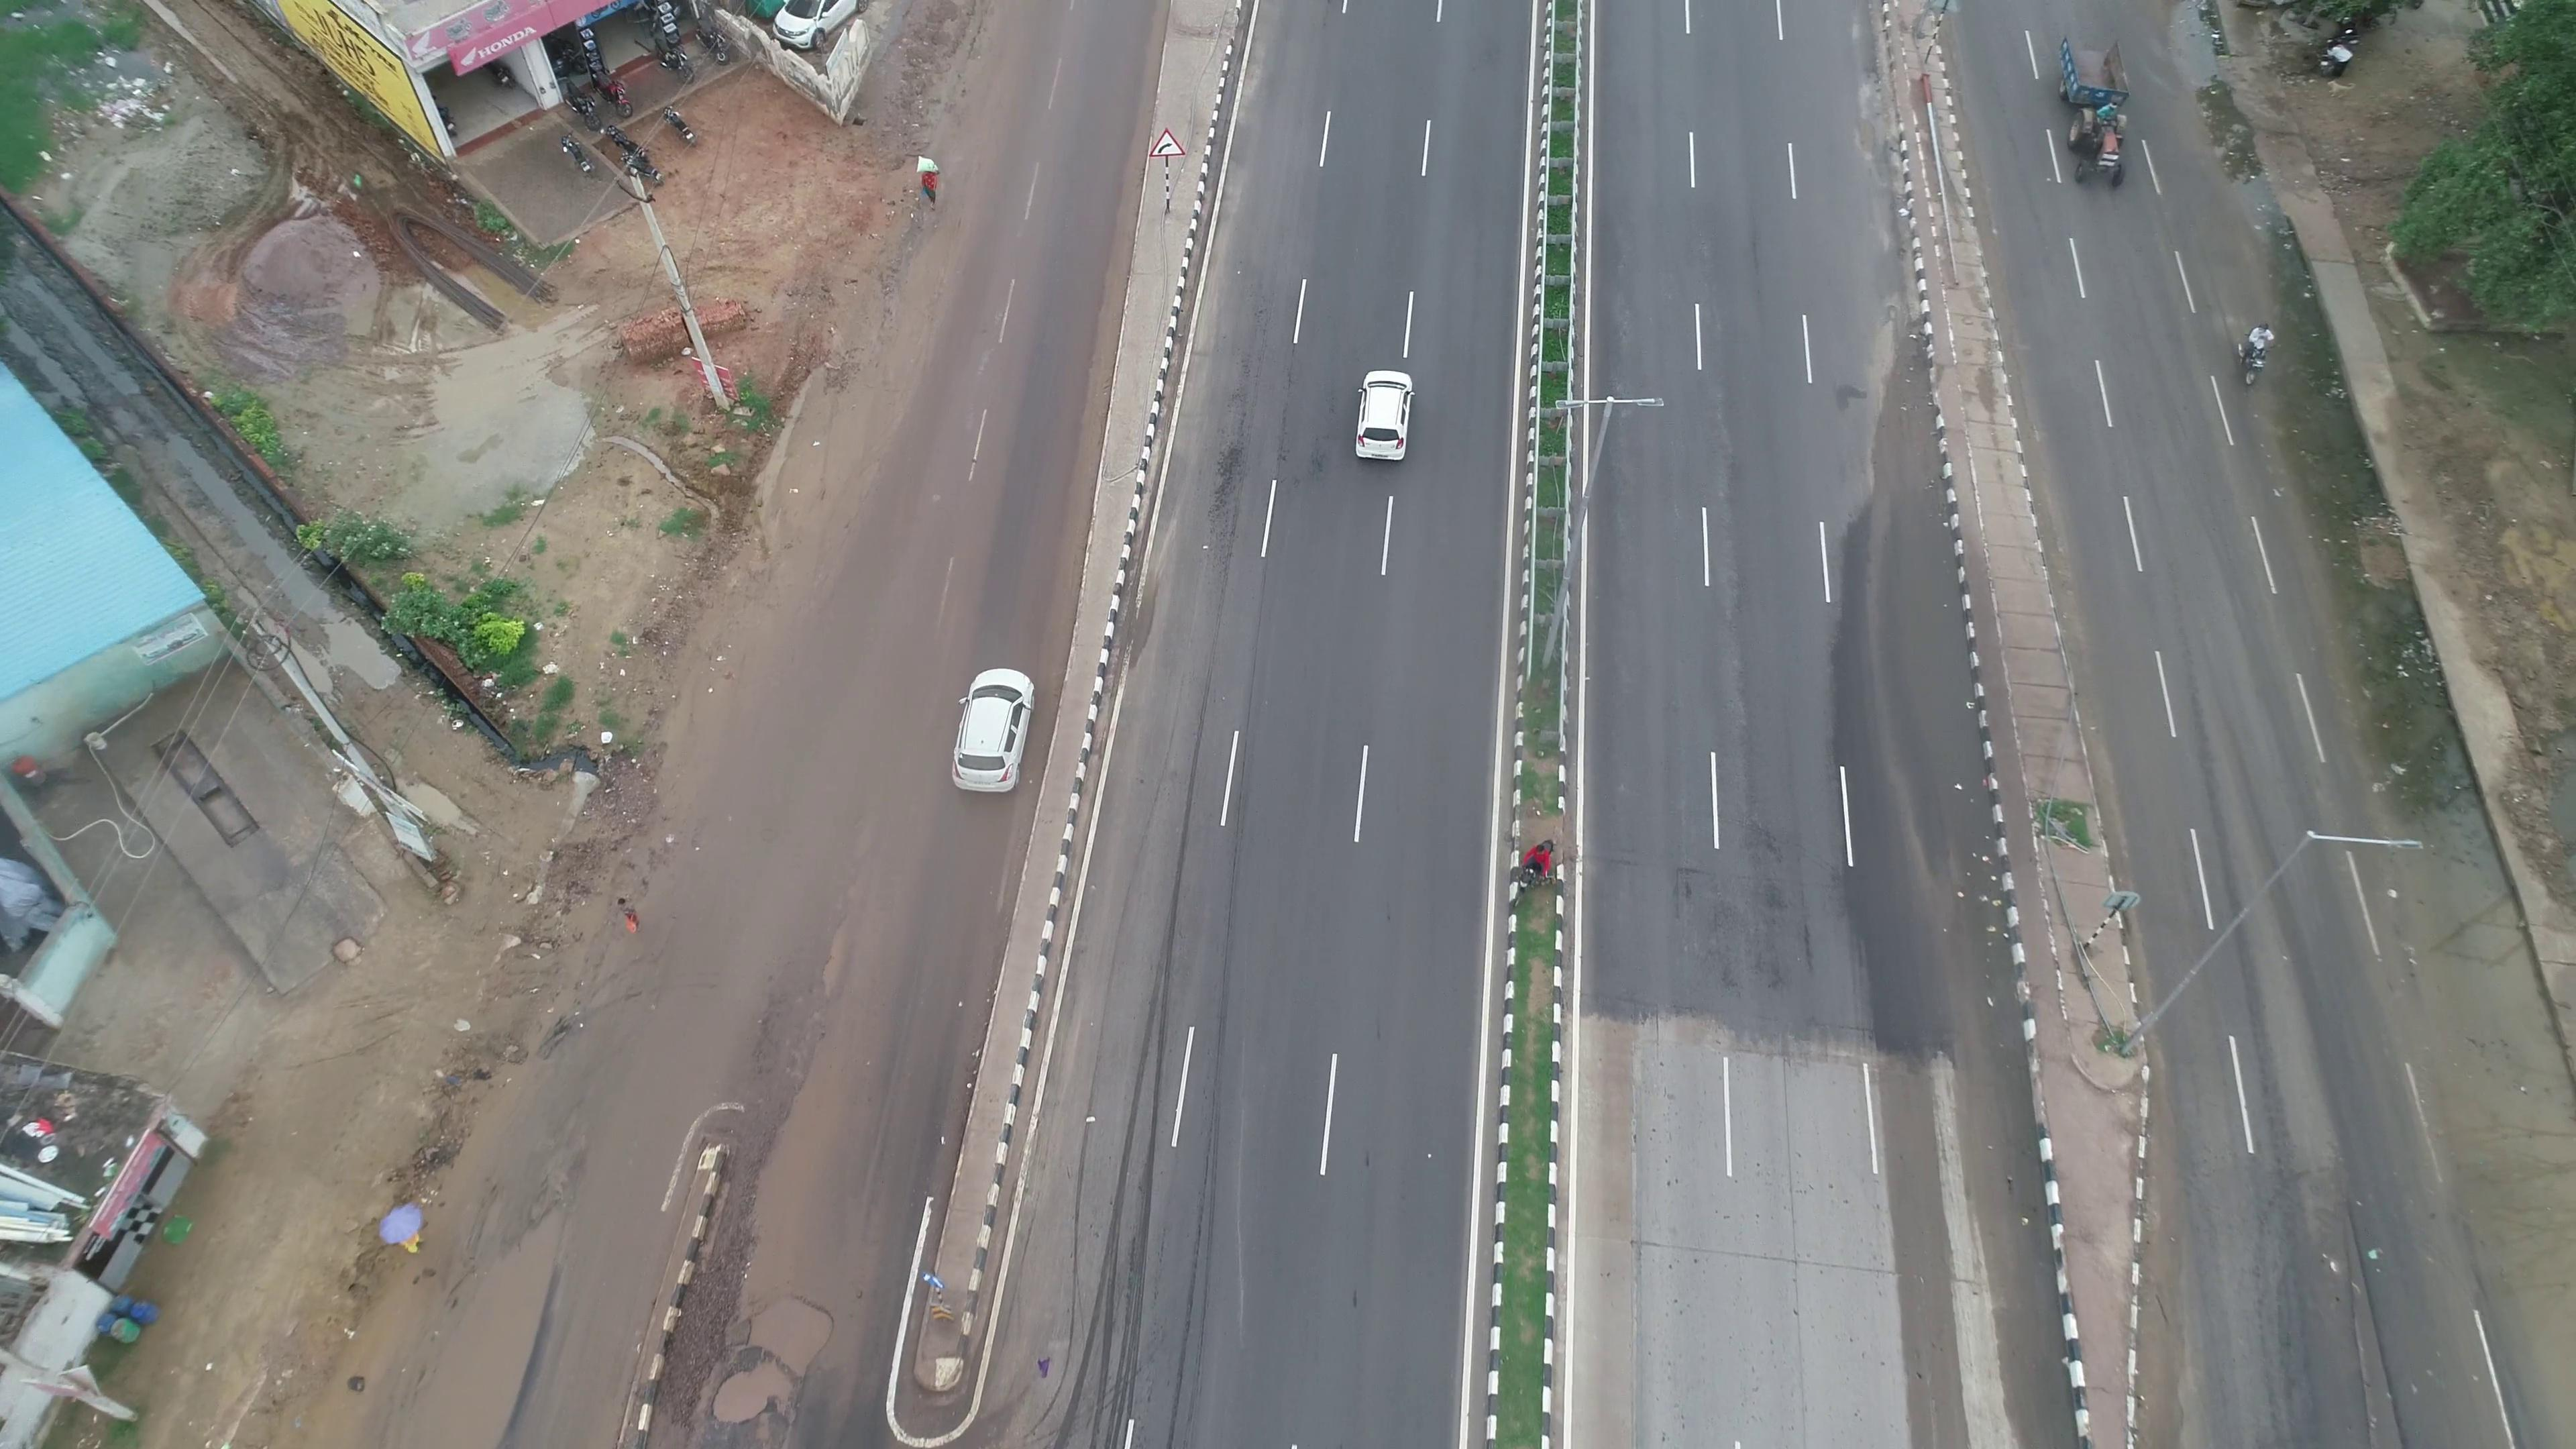Potholes: (686, 1261, 869, 1424)
Waterlogging: (1863, 533, 1987, 849)
